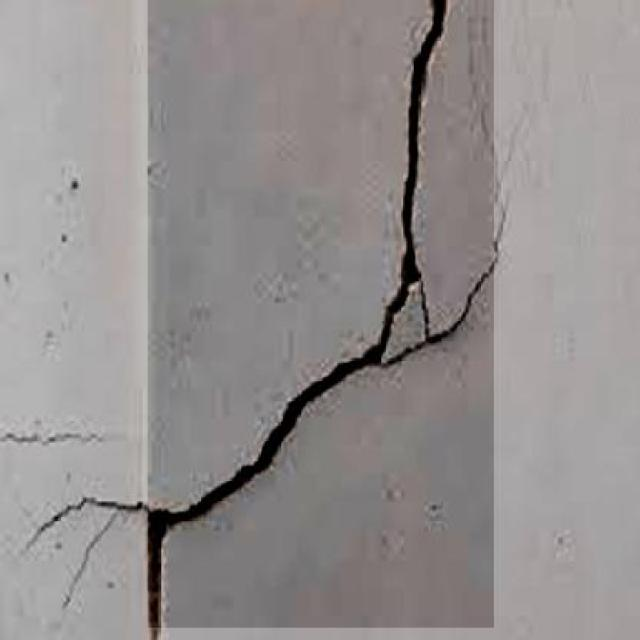Crack: (149, 7, 519, 640), (460, 0, 558, 272), (55, 511, 126, 608), (0, 403, 122, 457)
